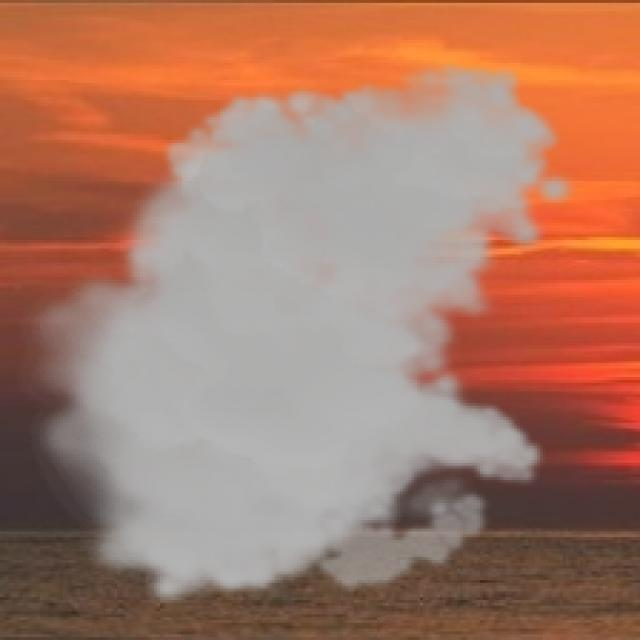smoke: (17, 60, 580, 609)
